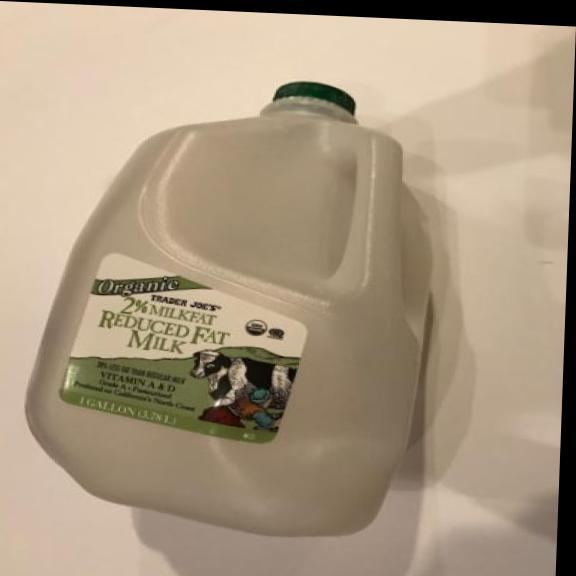Plastik: (11, 65, 444, 553)
